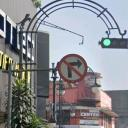NoVirarDireita: (57, 52, 87, 84)
